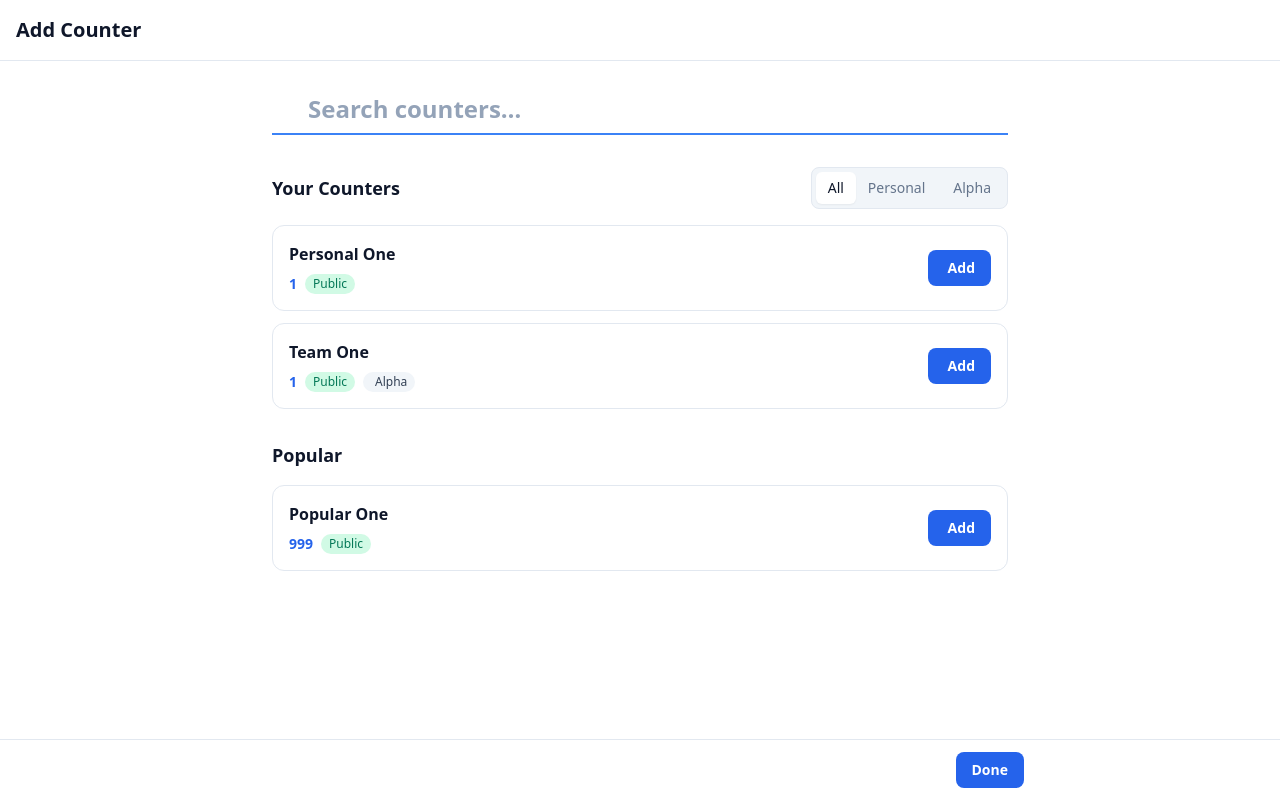
Scenario: AddCounterOverlay › filters Your Counters by owner without affecting Popular
Step 1. Click the button "Personal" → (897, 188), box [856,172,937,204]
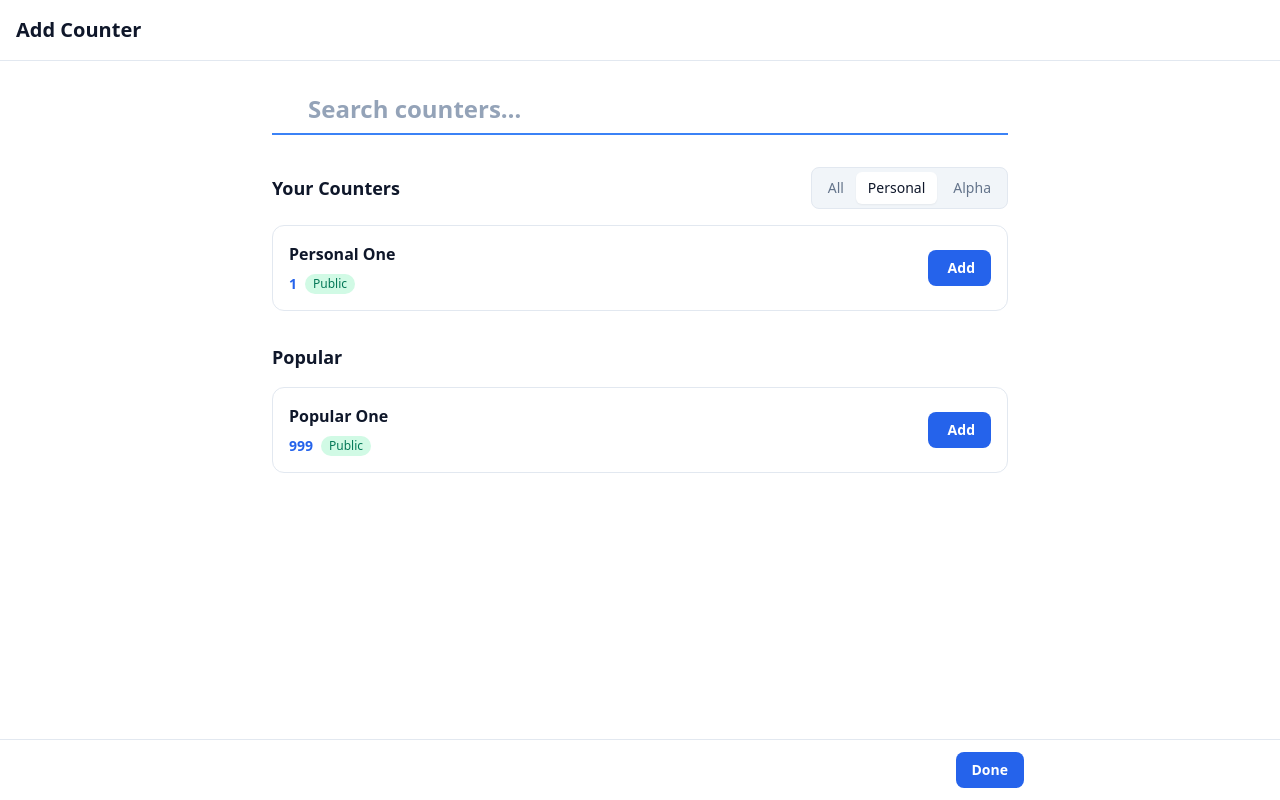
Check: the text "Personal One" is shown, box [289,243,396,265]
Check: the text "Team One" is gone
Step 2. Click the button "Alpha" → (970, 188), box [937,172,1003,204]
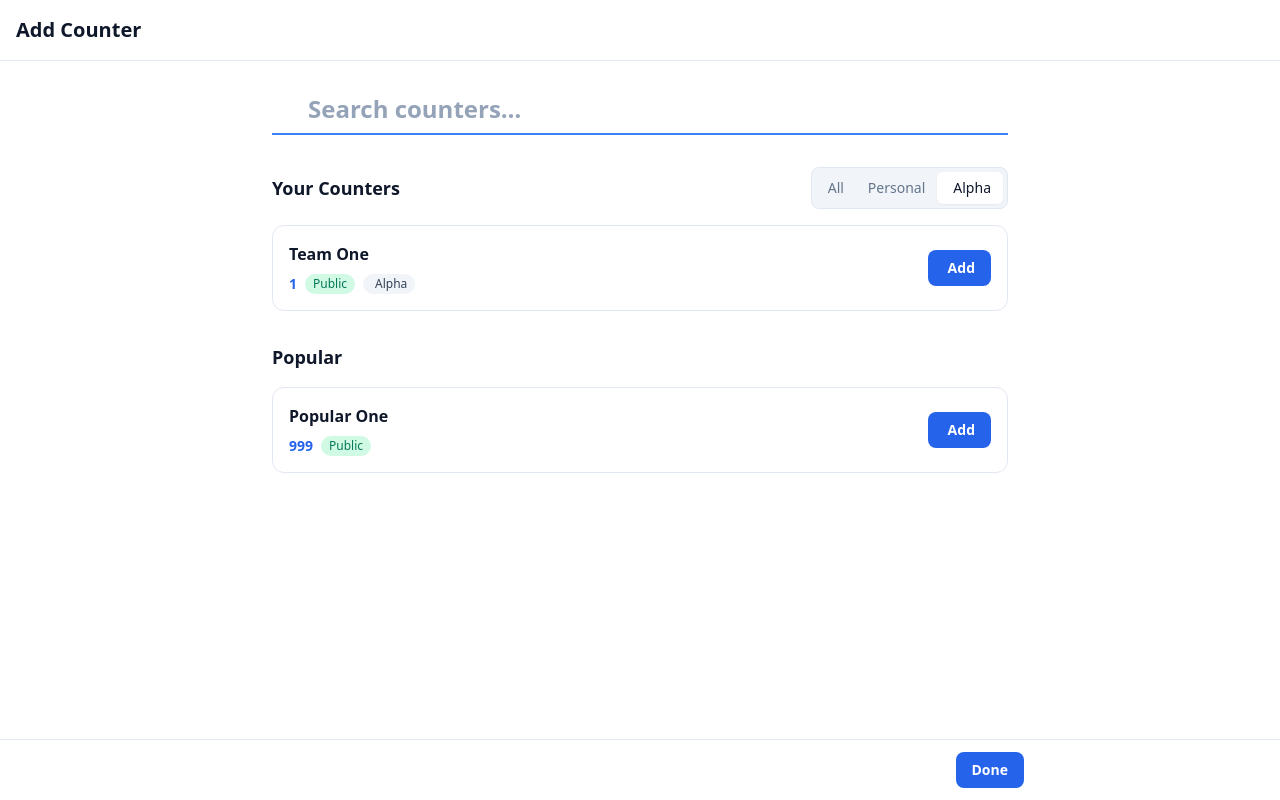
Check: the text "Popular One" is shown, box [289,405,388,427]
Check: the text "Personal One" is gone
Check: the text "Team One" is shown, box [289,243,369,265]
